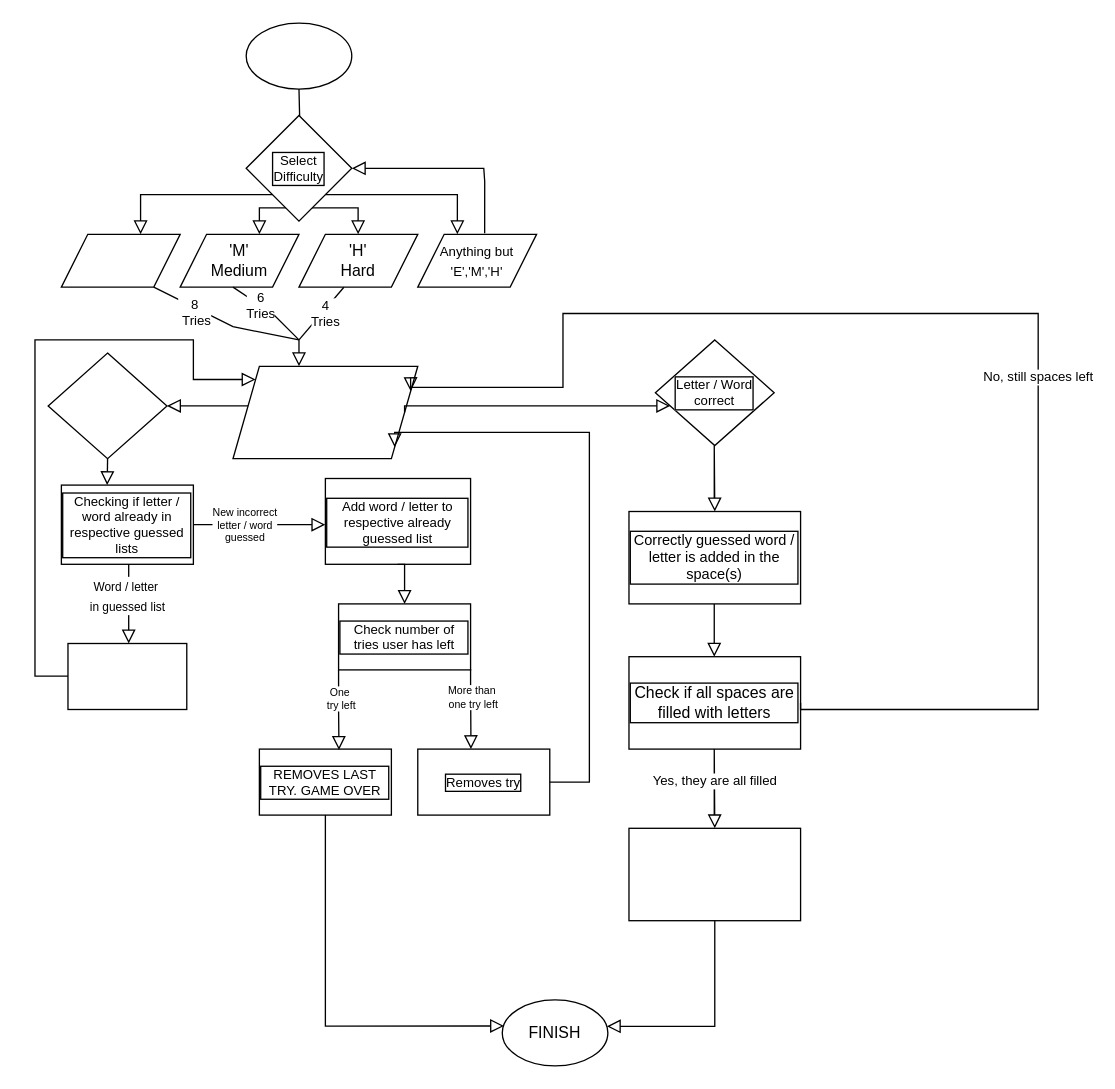
Image size: 1115x1089. Some labels were removed from this diagram. The centre of each missing label's shape, as x and y in pixels:
'E' Easy: pixel 120 260
Guess word / letter: pixel 325 412
Letter / Word incorrect: pixel 107 405
START: pixel 298 55
Tell user their guess has been repeated: pixel 127 676
WORD COMPLETE GAME WON: pixel 714 874
